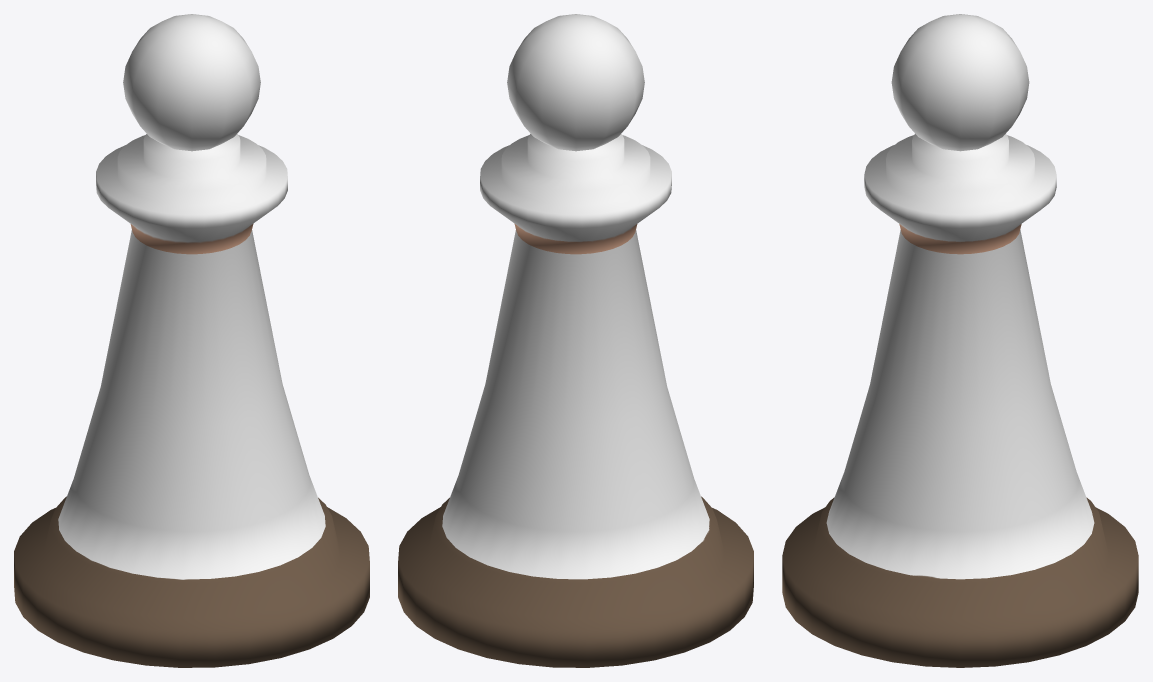
File: Pawn.gltf
3 renders of one model, left to right at view 1: azimuth 30°, elevation 25°; view 2: azimuth 150°, elevation 25°; view 3: azimuth 270°, elevation 25°, orthographic.
Parts seen in each view (by area): view 1: ポーン; view 2: ポーン; view 3: ポーン.
Boxes of the visible parts, box(x1,y1,x2,y2) form: ポーン: box(14, 14, 369, 667); ポーン: box(398, 14, 753, 667); ポーン: box(782, 14, 1138, 667).
Bounding box in the file's own units: 0.8681 × 1.54 × 0.8681.
1 material, 1 textured.
